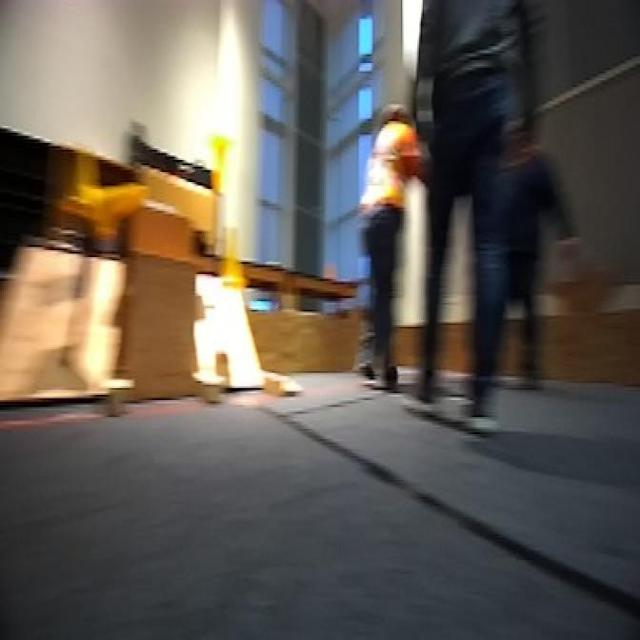frc_cone: (88, 175, 148, 240), (208, 121, 242, 196), (221, 225, 251, 298), (72, 152, 104, 220)
